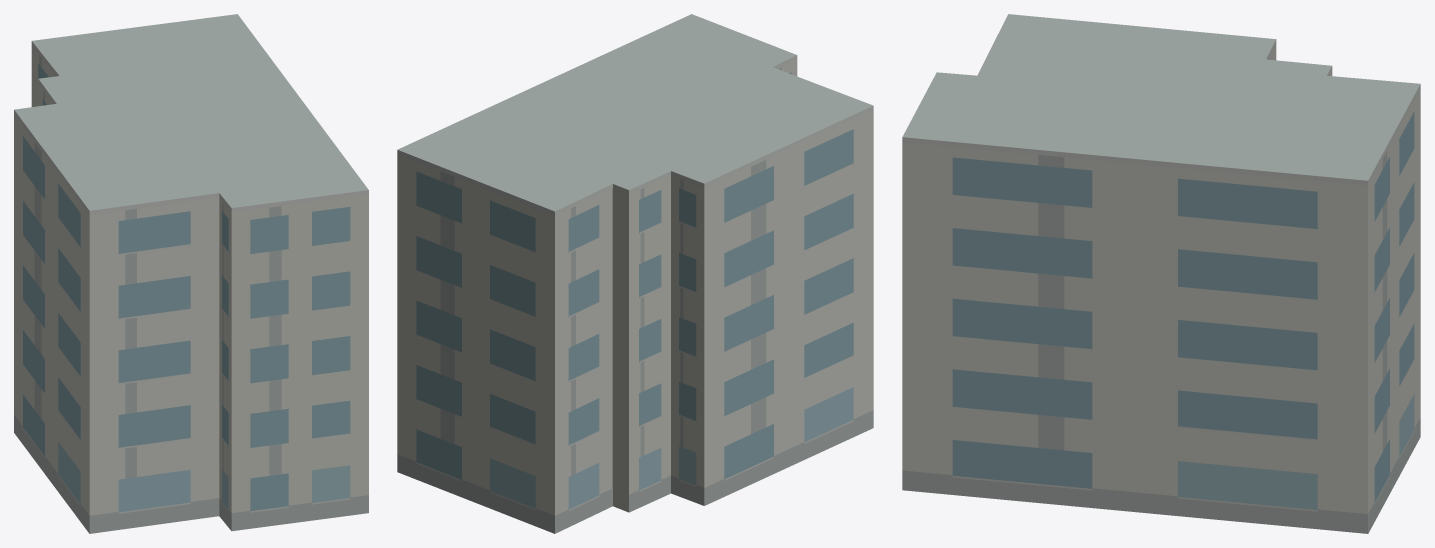
The model's file is survey-upis-32760213.glb.
3 views of the same model, side by side, from view 1: azimuth 30°, elevation 25°; view 2: azimuth 150°, elevation 25°; view 3: azimuth 270°, elevation 25° (orthographic). The views are drawn at different scales.
Visible parts, largest first — view 1: survey-upis-32760213.tmp; view 2: survey-upis-32760213.tmp; view 3: survey-upis-32760213.tmp.
Part boxes in pixels (bbox=[...]): survey-upis-32760213.tmp: bbox=[14, 14, 368, 533]; survey-upis-32760213.tmp: bbox=[397, 14, 873, 533]; survey-upis-32760213.tmp: bbox=[902, 14, 1420, 533].
Bounding box in the file's own units: 17.69 × 17.45 × 23.22.
